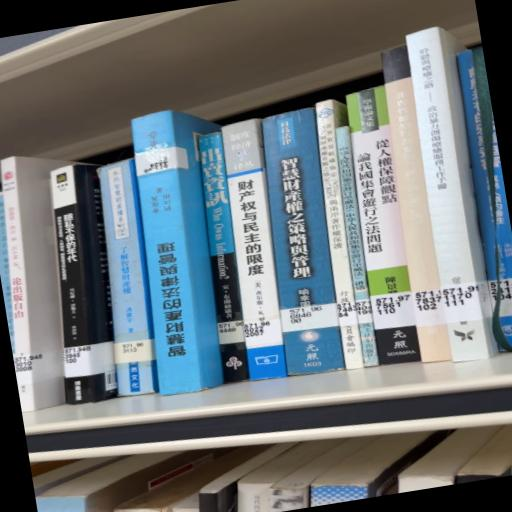reverse: (132, 111, 223, 395)
